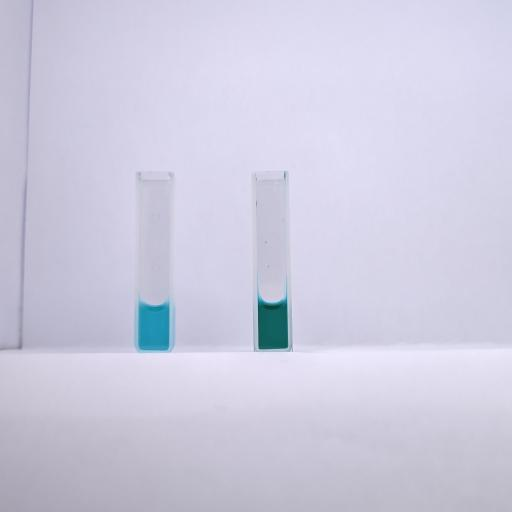cuvette: (249, 168, 294, 352), (133, 168, 176, 355)
liquid: (258, 300, 288, 348), (138, 303, 168, 350)
